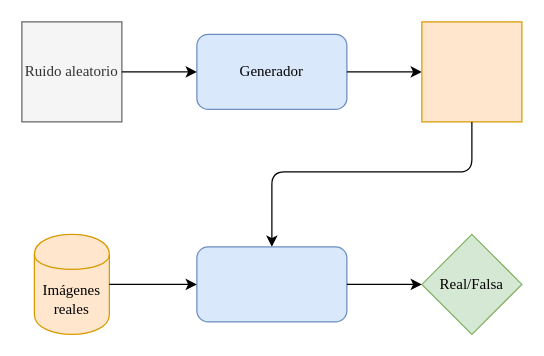
This 544x356 diagram has some shape labels left out. Here are the shapes that lost their labels. From the top down, the box of each, then its label:
(421, 21, 522, 122): Imágenes falsas
(196, 246, 347, 322): Discriminador
